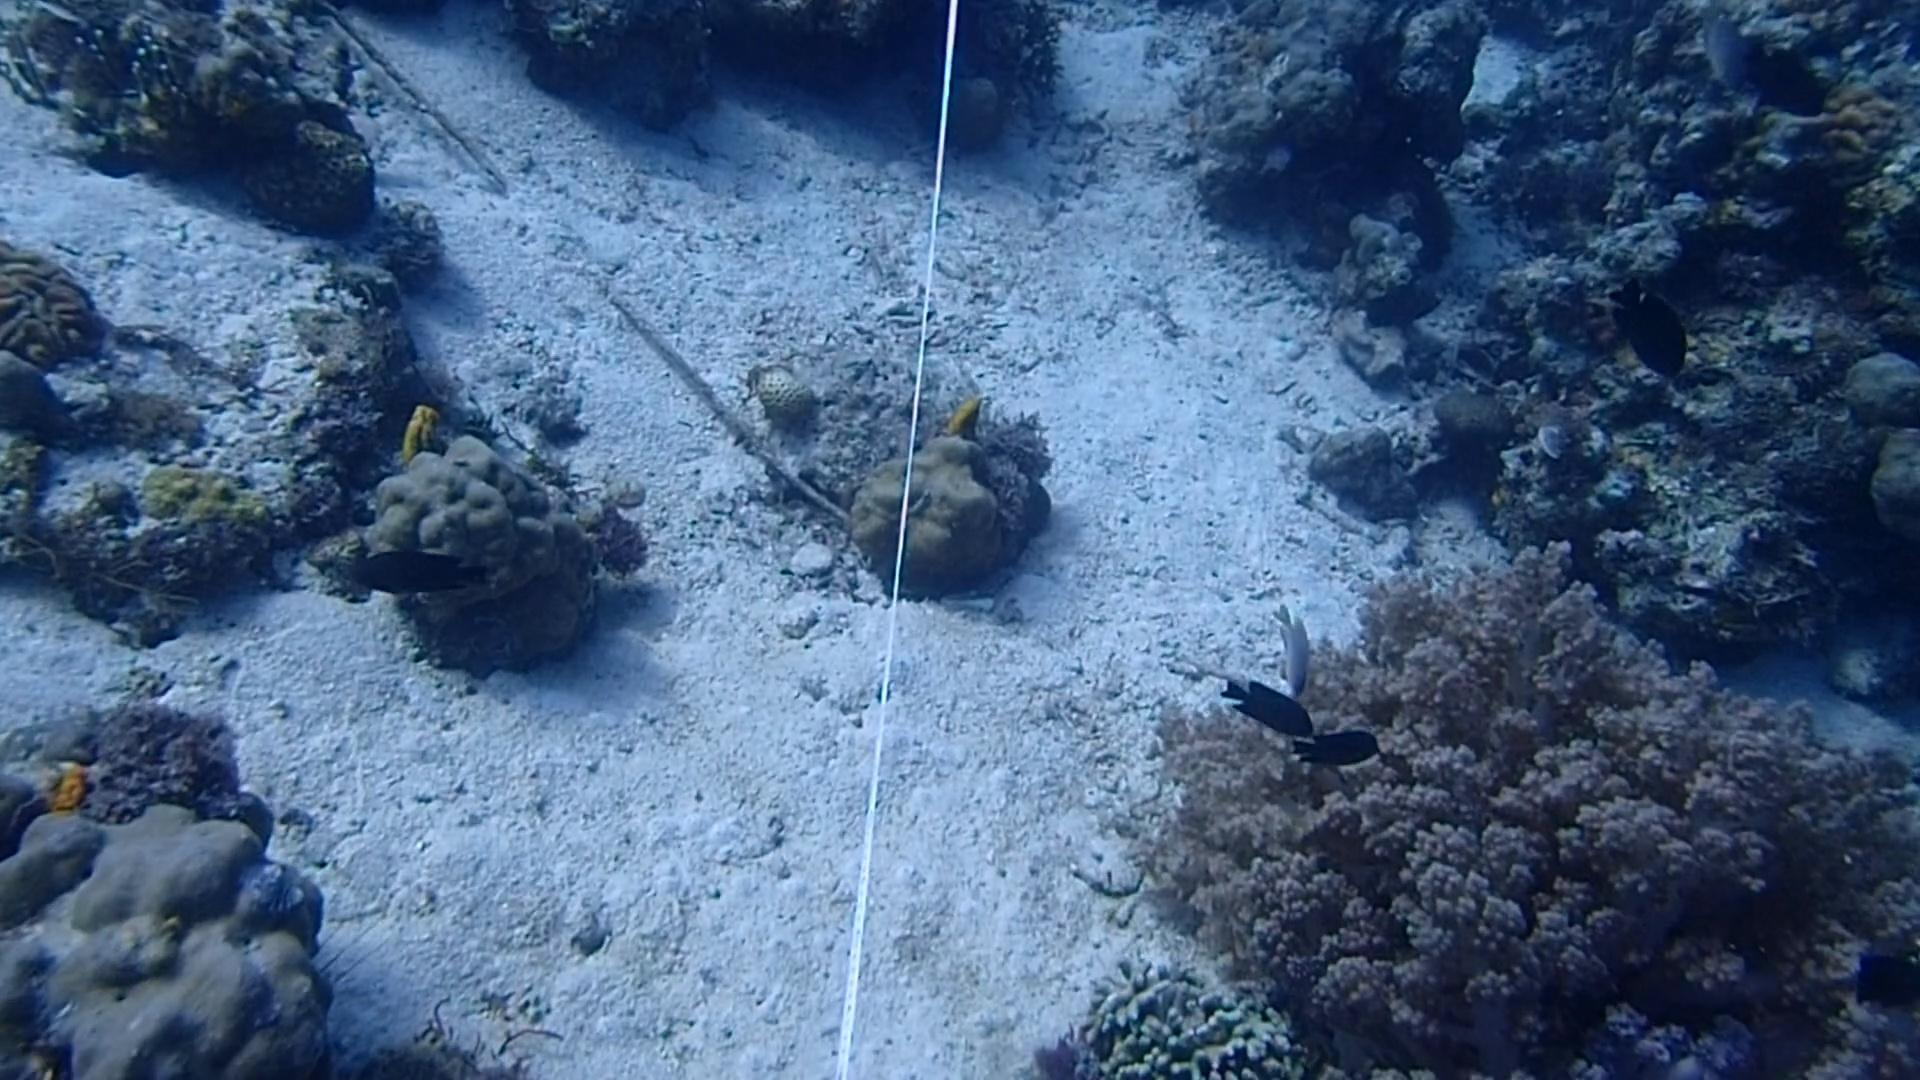Dark Fish: (1597, 264, 1698, 380), (344, 538, 497, 601), (1201, 667, 1311, 744), (1278, 713, 1398, 778), (1756, 40, 1837, 129), (1855, 955, 1920, 1014)
Light Fish: (1254, 601, 1333, 703), (1688, 3, 1768, 98)
